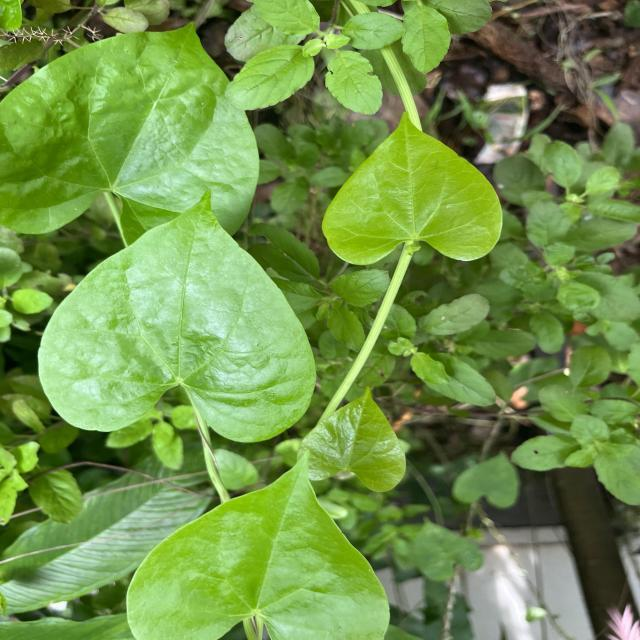Tinospora cordifolia: (32, 180, 320, 447), (0, 13, 262, 250), (122, 447, 399, 640), (319, 104, 506, 274)
